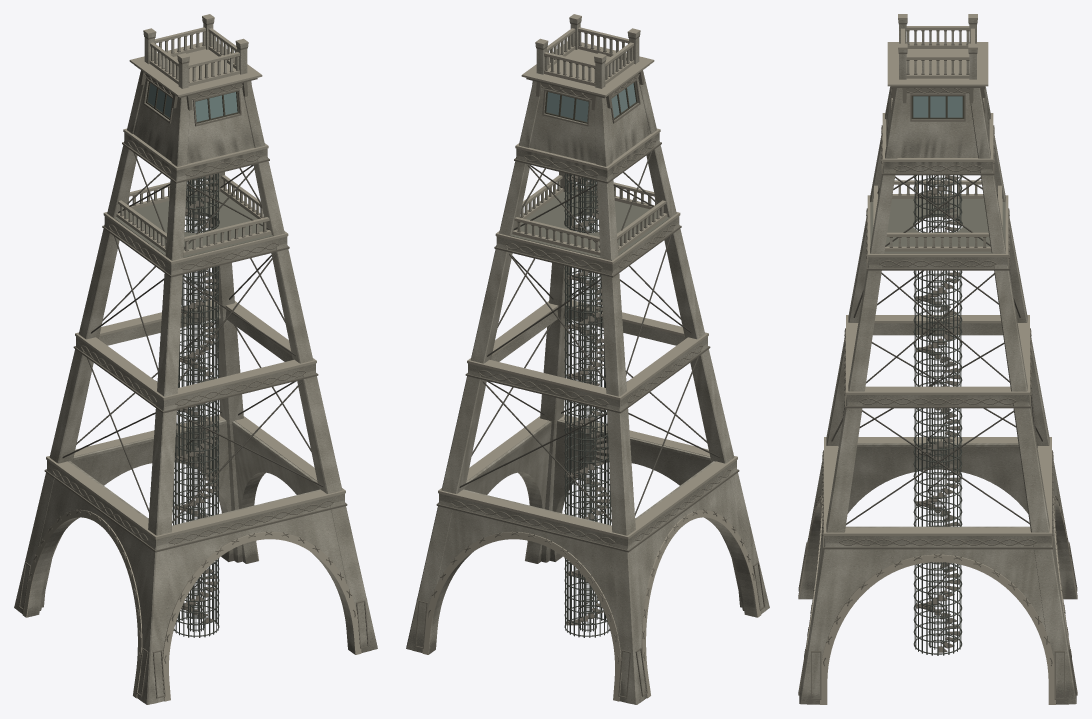
Rendered from huangpu-xiaonanmen-fire-bell-tower-web.glb.
3 views of the same model, side by side, from view 1: azimuth 30°, elevation 25°; view 2: azimuth 150°, elevation 25°; view 3: azimuth 270°, elevation 25° (orthographic). The views are drawn at different scales.
Parts seen in each view (by area): view 1: 小南门警钟楼四足塔架与瞭望室; view 2: 小南门警钟楼四足塔架与瞭望室; view 3: 小南门警钟楼四足塔架与瞭望室.
Part boxes in pixels (x1,y1,x2,y2): 小南门警钟楼四足塔架与瞭望室: (14,14,377,704); 小南门警钟楼四足塔架与瞭望室: (406,14,769,704); 小南门警钟楼四足塔架与瞭望室: (798,14,1077,704).
Size of the model in its own units: 14.49 by 35.2 by 14.49.
Materials: 9 (1 with a texture image).
